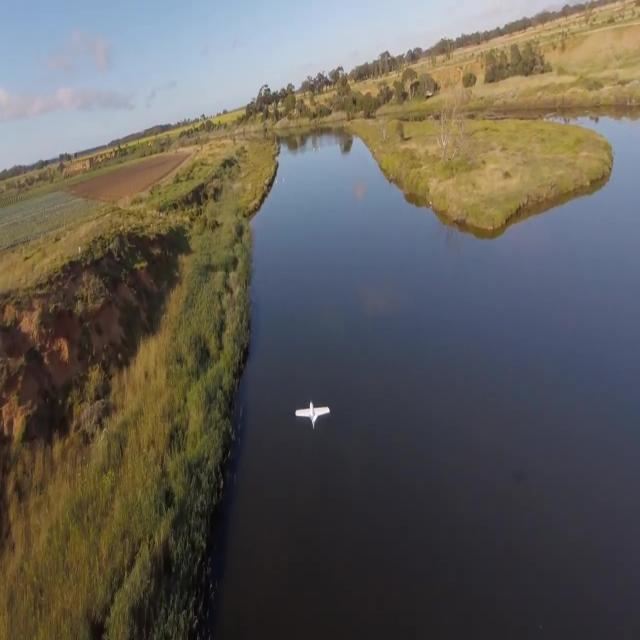iha: (295, 400, 331, 429)
